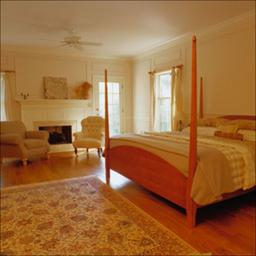Cama: (104, 114, 252, 224)
Puerta: (94, 75, 123, 137)
